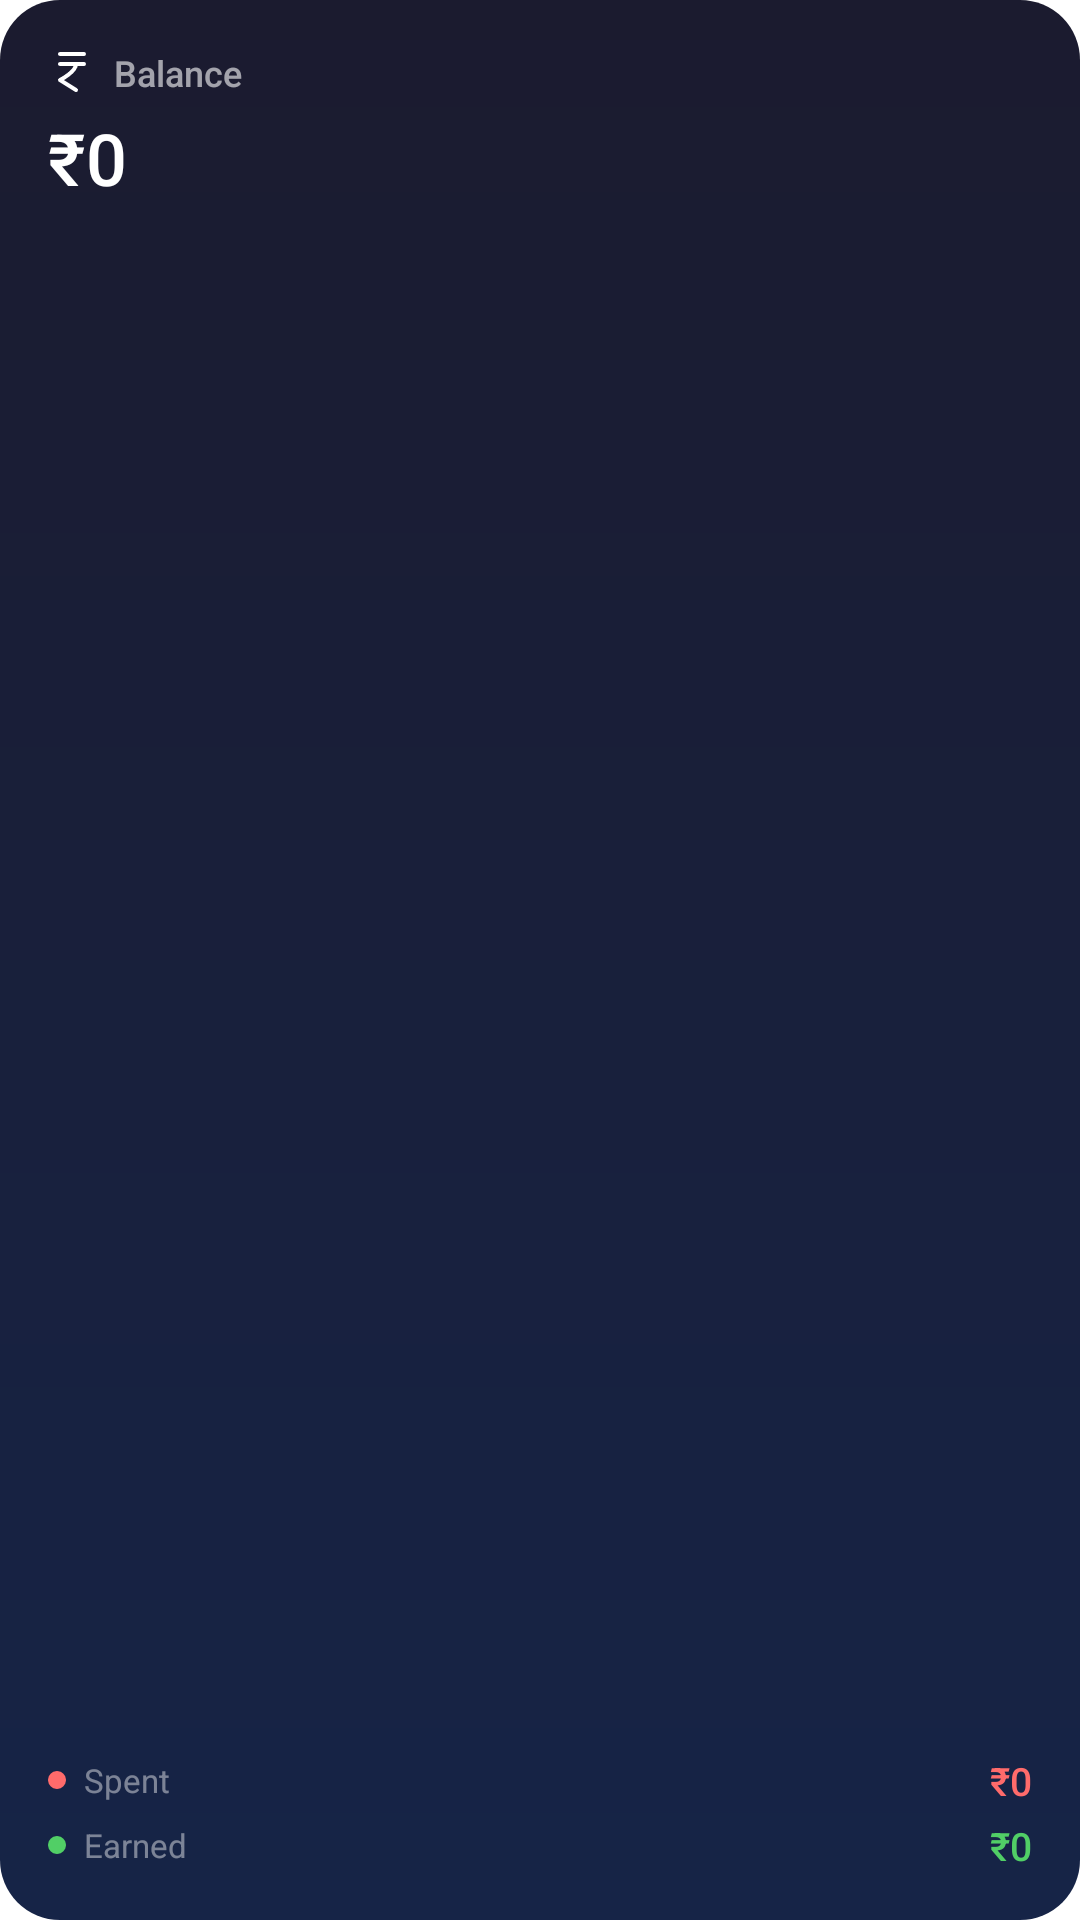

Screen size 1080 x 1920. Icon name, then its box in pixels as box(x1, y1, x2, y2):
Mudra: box(58, 52, 86, 92)
